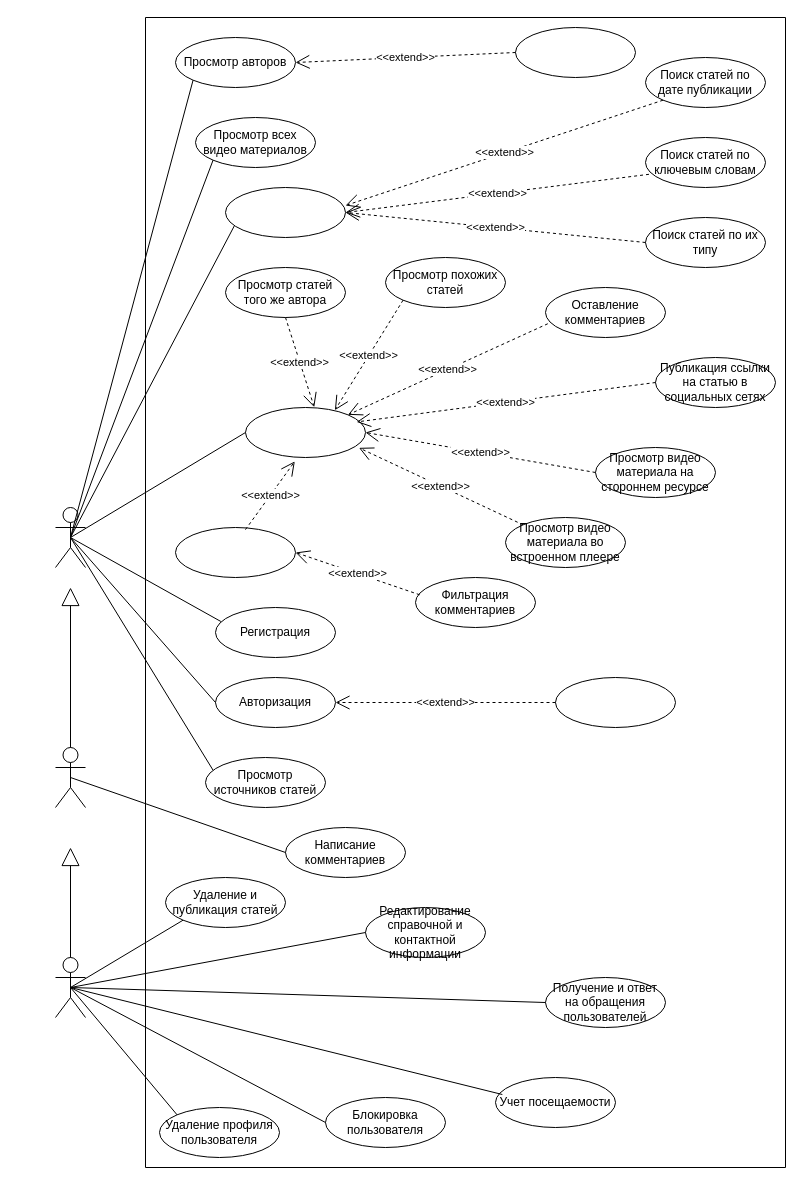
Some shapes in this 803 by 1185 pixel diagram are drawn without their labels. Each missing label, with the box of its shape:
Авторизированный пользователь: (54, 746, 86, 808)
Администратор: (54, 956, 86, 1018)
Поиск статей: (224, 186, 346, 238)
Пользователь: (54, 506, 86, 568)
Просмотр комментариев: (174, 526, 296, 578)
Просмотр статей: (244, 406, 366, 458)
Просмотр статей автора: (514, 26, 636, 78)
Удаление данных: (554, 676, 676, 728)
